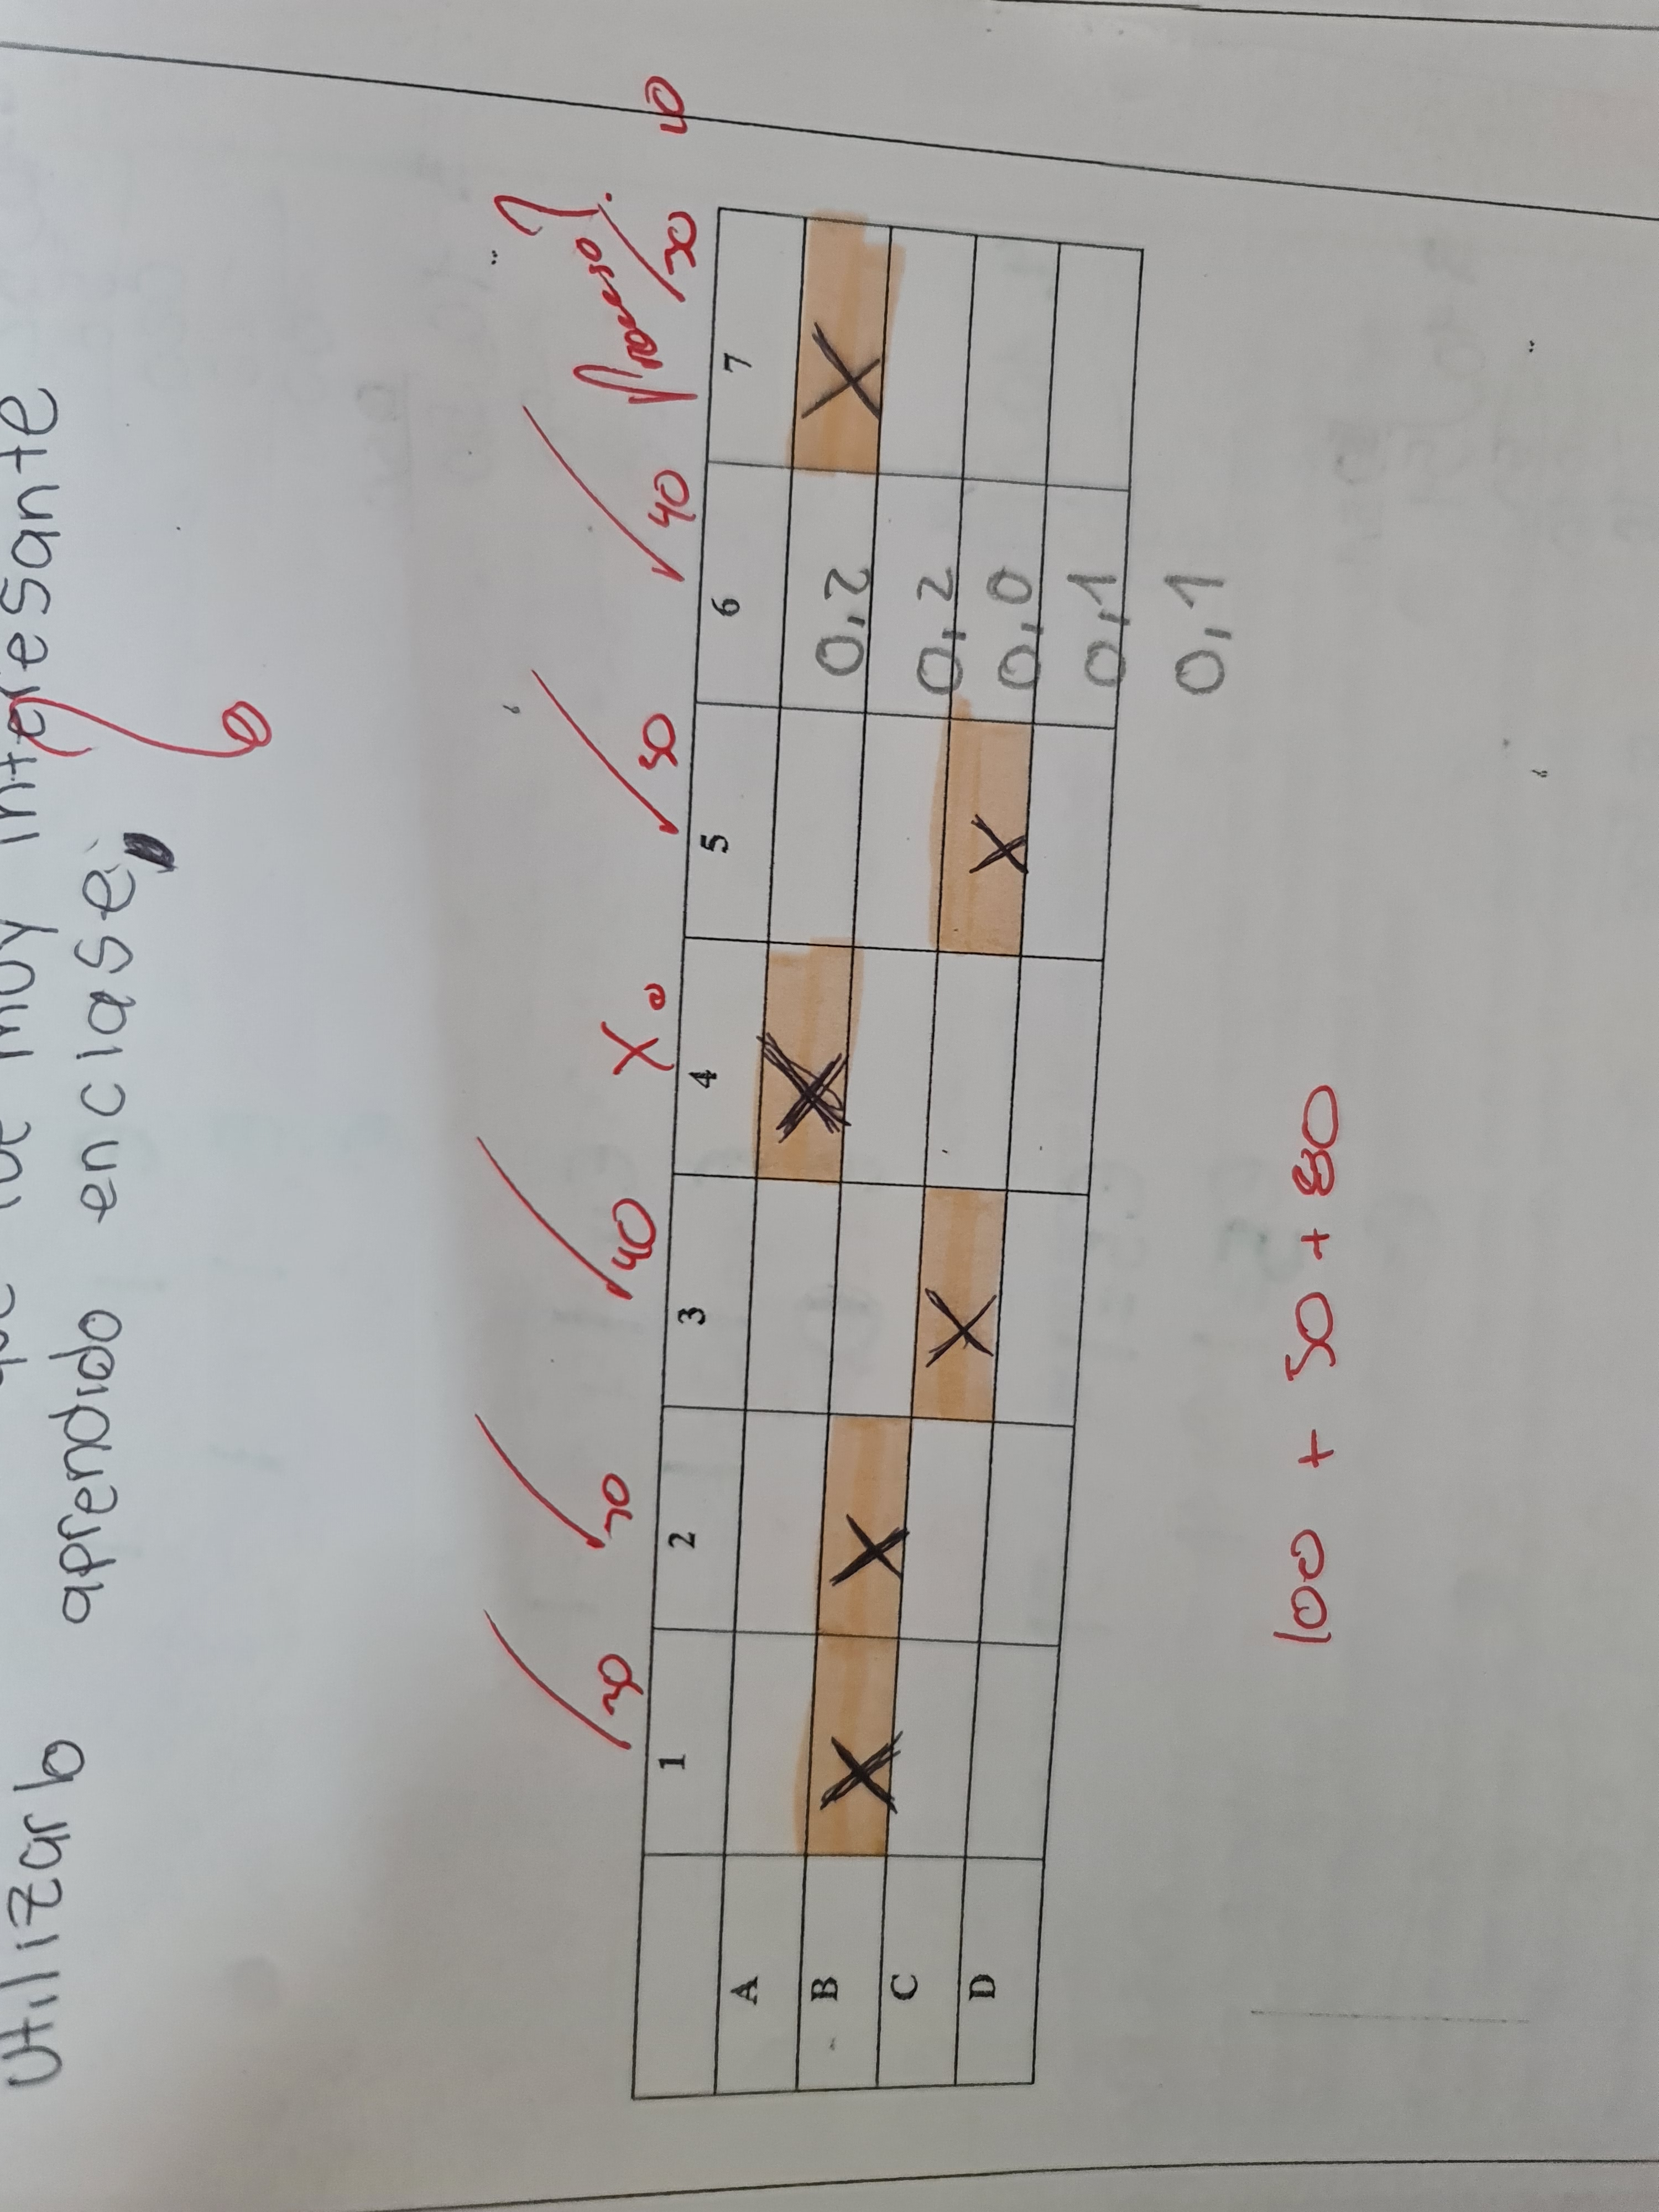column: (645, 928, 1126, 1205), (617, 1836, 1070, 2121), (622, 1388, 1103, 1653), (659, 700, 1150, 954), (650, 1163, 1121, 1426), (636, 1618, 1094, 1867)
